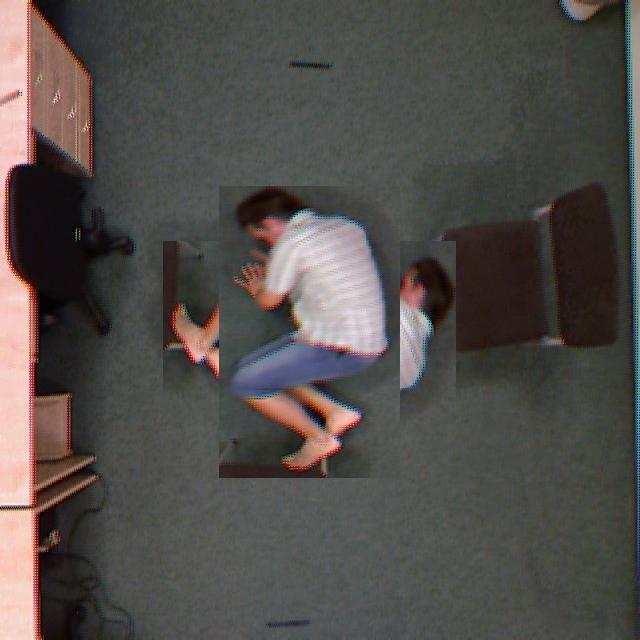Fall: (180, 190, 393, 486)
